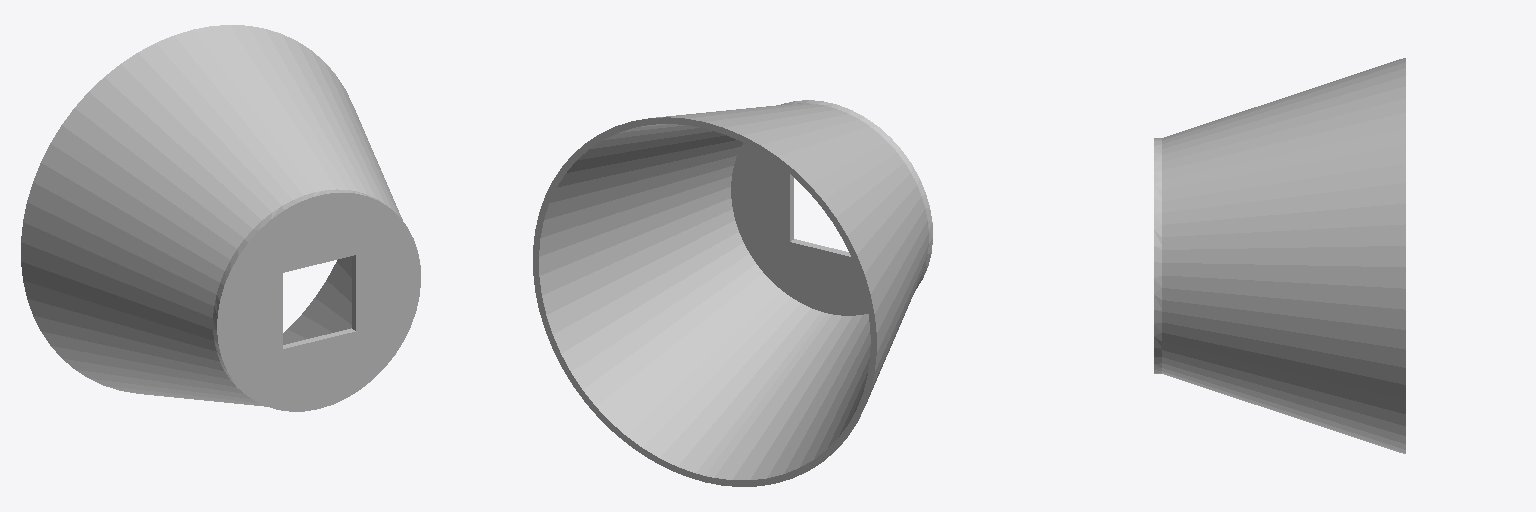
File: 反光罩.obj
3 renders of one model, left to right at view 1: azimuth 30°, elevation 25°; view 2: azimuth 150°, elevation 25°; view 3: azimuth 270°, elevation 25°, orthographic.
Parts seen in each view (by area): view 1: ______; view 2: ______; view 3: ______.
Part boxes in pixels (x1,y1,x2,y2): ______: (21, 25, 420, 411); ______: (533, 100, 932, 486); ______: (1154, 58, 1405, 453).
Bounding box in the file's own units: 236 × 236 × 150.